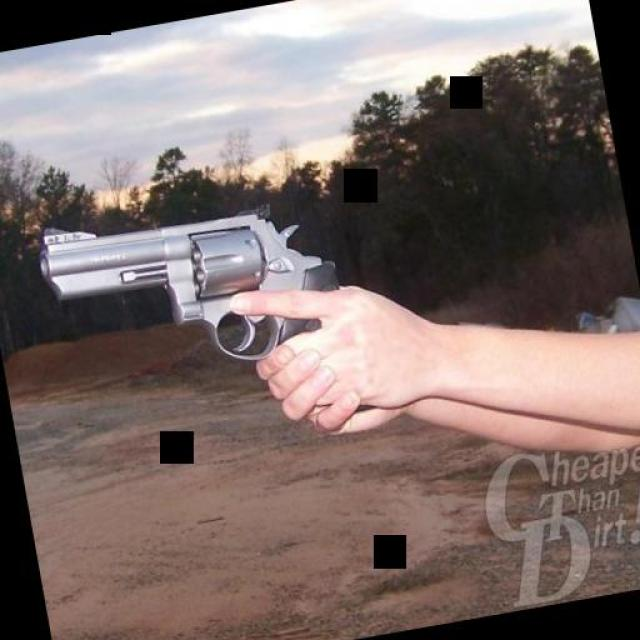gun: (19, 170, 382, 469)
